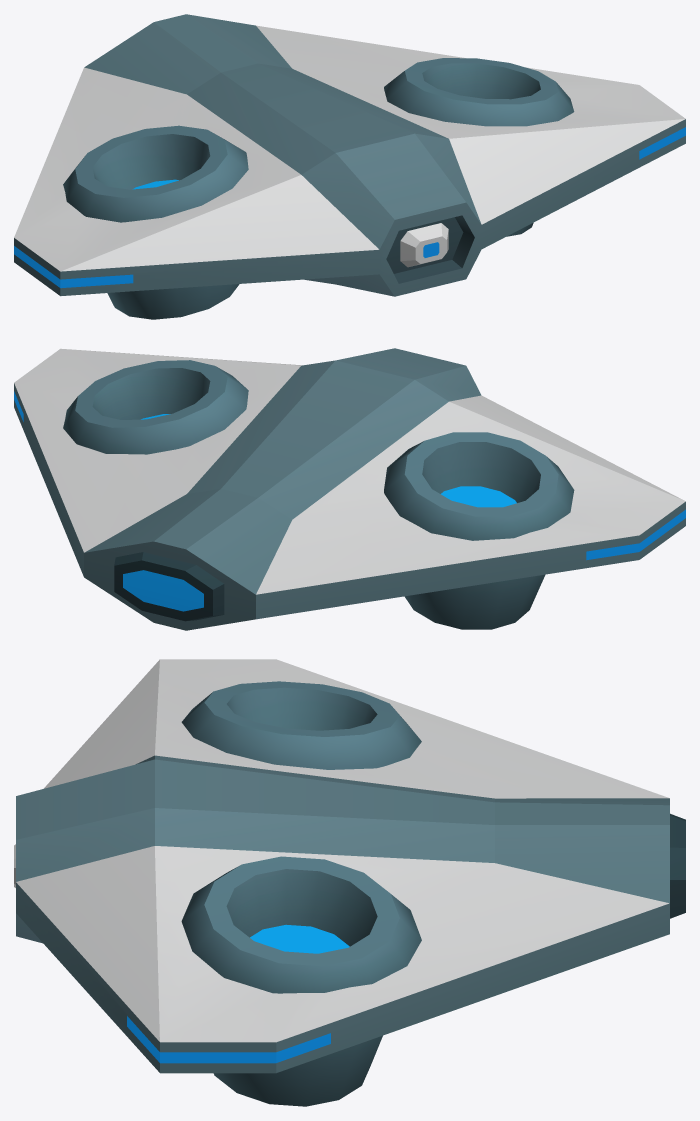
The model's file is Drone_011.glb.
3 renders of one model, top to bottom at view 1: azimuth 30°, elevation 25°; view 2: azimuth 150°, elevation 25°; view 3: azimuth 270°, elevation 25°, orthographic. The views are drawn at different scales.
Visible parts, largest first — view 1: Drone_011; view 2: Drone_011; view 3: Drone_011.
Boxes of the visible parts, x1,y1,x2,y2 form: Drone_011: [14, 14, 685, 319]; Drone_011: [14, 348, 685, 630]; Drone_011: [14, 659, 685, 1106].
Bounding box in the file's own units: 0.7596 × 0.1854 × 0.5633.
Materials: 2 (2 with a texture image).
